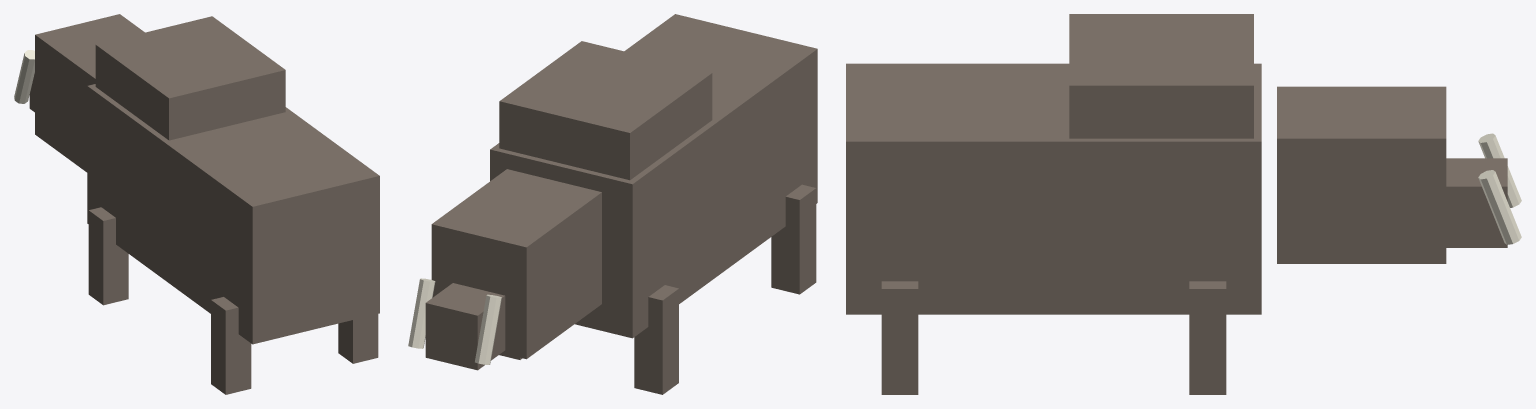
File: Boar.fbx
3 renders of one model, left to right at view 1: azimuth 30°, elevation 25°; view 2: azimuth 150°, elevation 25°; view 3: azimuth 270°, elevation 25°, orthographic. The views are drawn at different scales.
Visible parts, largest first — view 1: Boar; view 2: Boar; view 3: Boar.
Boxes of the visible parts, <box> form: Boar: <box>14,14,379,394</box>; Boar: <box>408,14,817,394</box>; Boar: <box>846,14,1521,394</box>.
Bounding box in the file's own units: 72 × 107 × 220.
